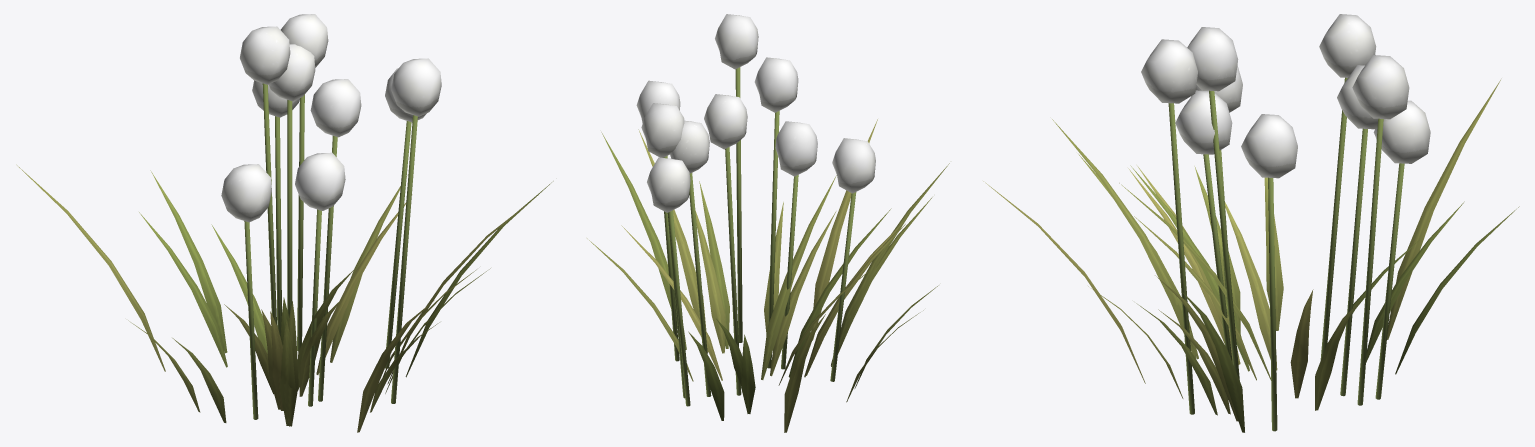
File: cotton_grass.glb
3 views of the same model, side by side, from view 1: azimuth 30°, elevation 25°; view 2: azimuth 150°, elevation 25°; view 3: azimuth 270°, elevation 25° (orthographic). The views are drawn at different scales.
Visible parts, largest first — view 1: CottonGrass_leaf; view 2: CottonGrass_leaf; view 3: CottonGrass_leaf.
Boxes of the visible parts, x1,y1,x2,y2 form: CottonGrass_leaf: [16, 14, 553, 432]; CottonGrass_leaf: [587, 14, 949, 432]; CottonGrass_leaf: [983, 14, 1519, 432].
Size of the model in its own units: 0.915 by 0.7656 by 0.9918.
1 material, 1 textured.
